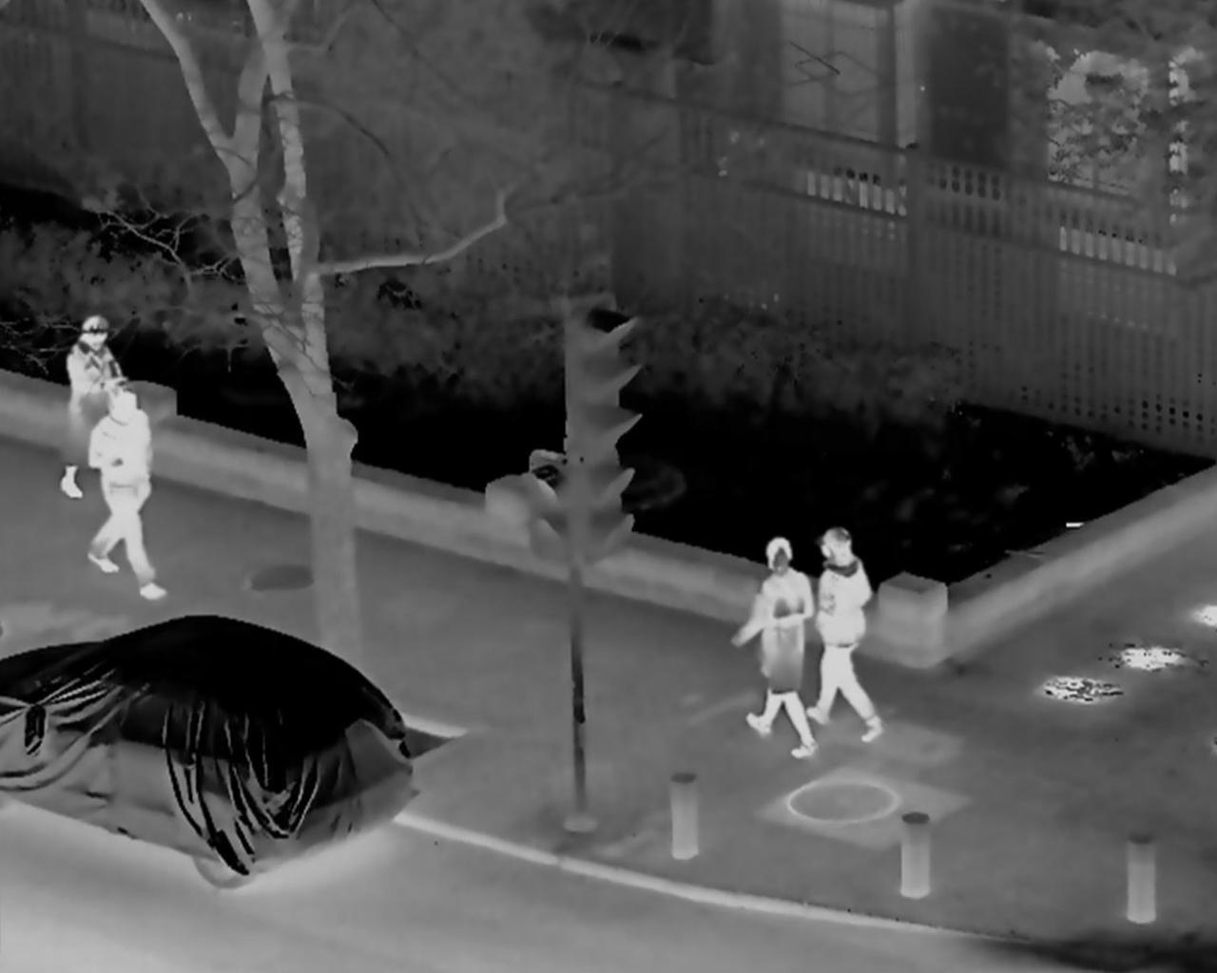person: (795, 526, 889, 743), (731, 539, 818, 758), (84, 382, 163, 601), (52, 313, 134, 501)
